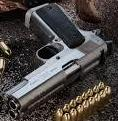gun: (1, 1, 118, 121)
